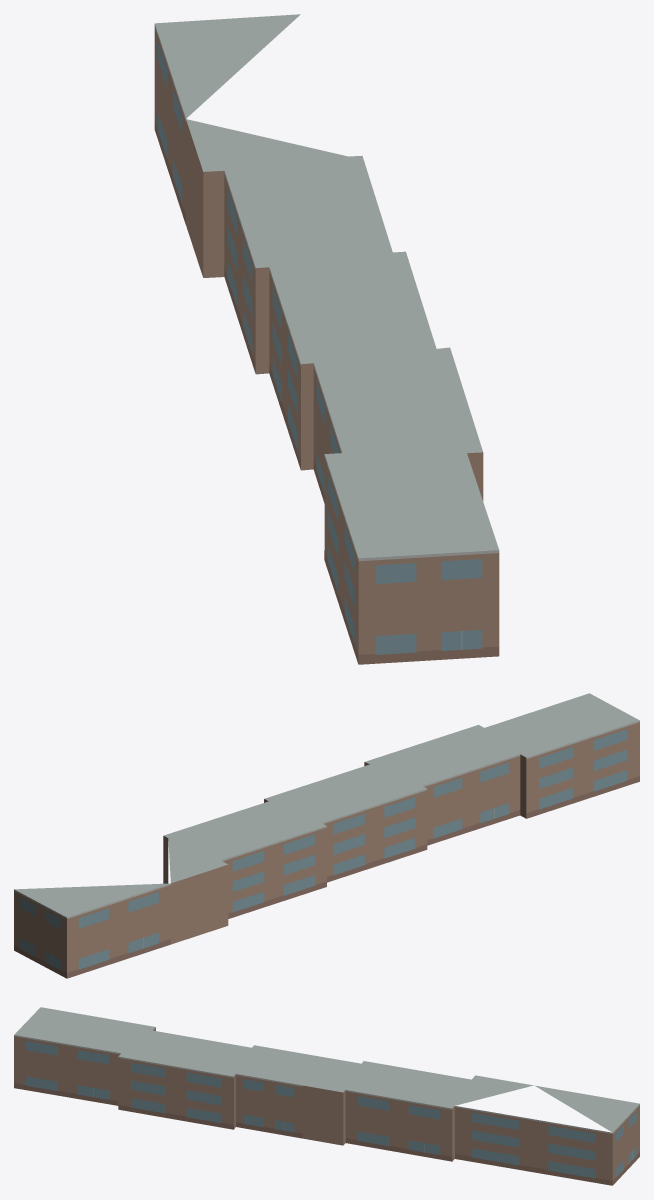
The model's file is survey-upis-32681434.glb.
The picture shows the model from 3 angles, top to bottom: view 1: azimuth 30°, elevation 25°; view 2: azimuth 150°, elevation 25°; view 3: azimuth 270°, elevation 25°; orthographic projection. The views are drawn at different scales.
Visible parts, largest first — view 1: survey-upis-32681434.tmp; view 2: survey-upis-32681434.tmp; view 3: survey-upis-32681434.tmp.
Boxes of the visible parts, x1=… form: survey-upis-32681434.tmp: x1=154, y1=14, x2=499, y2=664; survey-upis-32681434.tmp: x1=14, y1=693, x2=639, y2=978; survey-upis-32681434.tmp: x1=14, y1=1007, x2=639, y2=1185.
Size of the model in its own units: 46.4 by 9.15 by 97.73.
